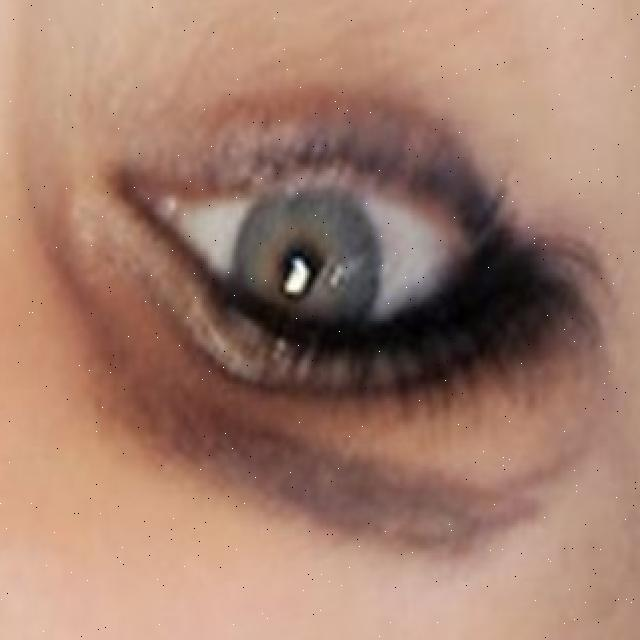Normal: (235, 179, 378, 354)
